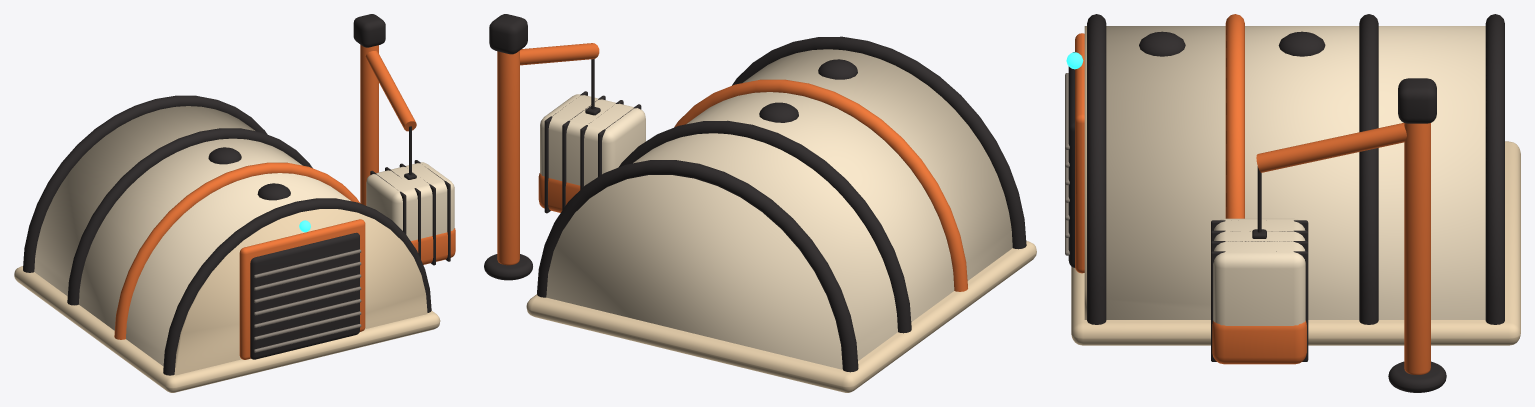
Rendered from warehouse.glb.
The picture shows the model from 3 angles, left to right: view 1: azimuth 30°, elevation 25°; view 2: azimuth 150°, elevation 25°; view 3: azimuth 270°, elevation 25°; orthographic projection. The views are drawn at different scales.
Parts seen in each view (by area): view 1: Cylinder, Cylinder.001, Cube.002, Cube, Cube.012, Torus, Torus.001, Torus.002, Torus.003, Cube.001, Cylinder.003, pipe (+11 smaller); view 2: Cylinder, Cube, Torus.003, Cube.012, Torus, Torus.001, Torus.002, Cylinder.003, Cube.010, pipe, Cube.013, Cylinder.002 (+4 smaller); view 3: Cylinder, Cube, Cube.012, Cylinder.003, Torus.003, Torus, Torus.002, Torus.001, Cube.013, pipe, Cube.001, Cube.010 (+6 smaller).
Part boxes in pixels (x1=…): Cylinder: x1=34, y1=106, x2=350, y2=366; Cylinder.001: x1=174, y1=209, x2=427, y2=375; Cube.002: x1=250, y1=232, x2=359, y2=359; Cube: x1=14, y1=266, x2=440, y2=392; Cube.012: x1=366, y1=162, x2=454, y2=240; Torus: x1=163, y1=198, x2=431, y2=375; Torus.001: x1=114, y1=162, x2=360, y2=339; Torus.002: x1=67, y1=128, x2=312, y2=305; Torus.003: x1=23, y1=95, x2=267, y2=272; Cube.001: x1=239, y1=219, x2=365, y2=359; Cylinder.003: x1=360, y1=45, x2=378, y2=205; pipe: x1=365, y1=51, x2=416, y2=131; Cylinder: x1=546, y1=49, x2=1012, y2=369; Cube: x1=526, y1=241, x2=1036, y2=392; Torus.003: x1=537, y1=160, x2=858, y2=372; Cube.012: x1=540, y1=94, x2=645, y2=185; Torus: x1=732, y1=36, x2=1026, y2=249; Torus.001: x1=674, y1=79, x2=967, y2=291; Torus.002: x1=618, y1=120, x2=911, y2=333; Cylinder.003: x1=497, y1=50, x2=519, y2=265; Cube.010: x1=489, y1=14, x2=527, y2=54; pipe: x1=520, y1=43, x2=599, y2=65; Cube.013: x1=538, y1=173, x2=580, y2=212; Cylinder.002: x1=484, y1=254, x2=532, y2=280; Cylinder: x1=1106, y1=26, x2=1485, y2=319; Cube: x1=1071, y1=141, x2=1520, y2=345; Cube.012: x1=1213, y1=218, x2=1305, y2=325; Cylinder.003: x1=1404, y1=123, x2=1430, y2=374; Torus.003: x1=1485, y1=14, x2=1504, y2=324; Torus: x1=1087, y1=14, x2=1106, y2=324; Torus.002: x1=1359, y1=14, x2=1378, y2=324; Torus.001: x1=1225, y1=14, x2=1244, y2=218; Cube.013: x1=1212, y1=321, x2=1306, y2=364; pipe: x1=1256, y1=123, x2=1406, y2=172; Cube.001: x1=1075, y1=33, x2=1084, y2=273; Cube.010: x1=1398, y1=78, x2=1436, y2=123.
Size of the model in its own units: 2.3 by 1.36 by 1.87.
